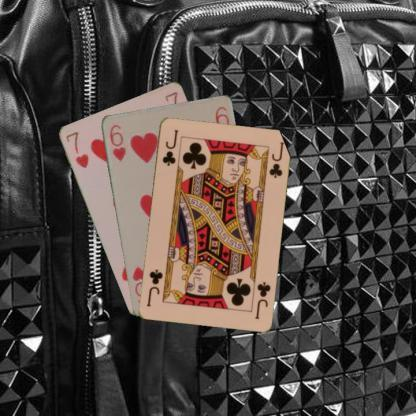6h: (106, 122, 127, 162)
7h: (62, 128, 90, 170)
Jc: (160, 127, 180, 168), (252, 279, 271, 320)
